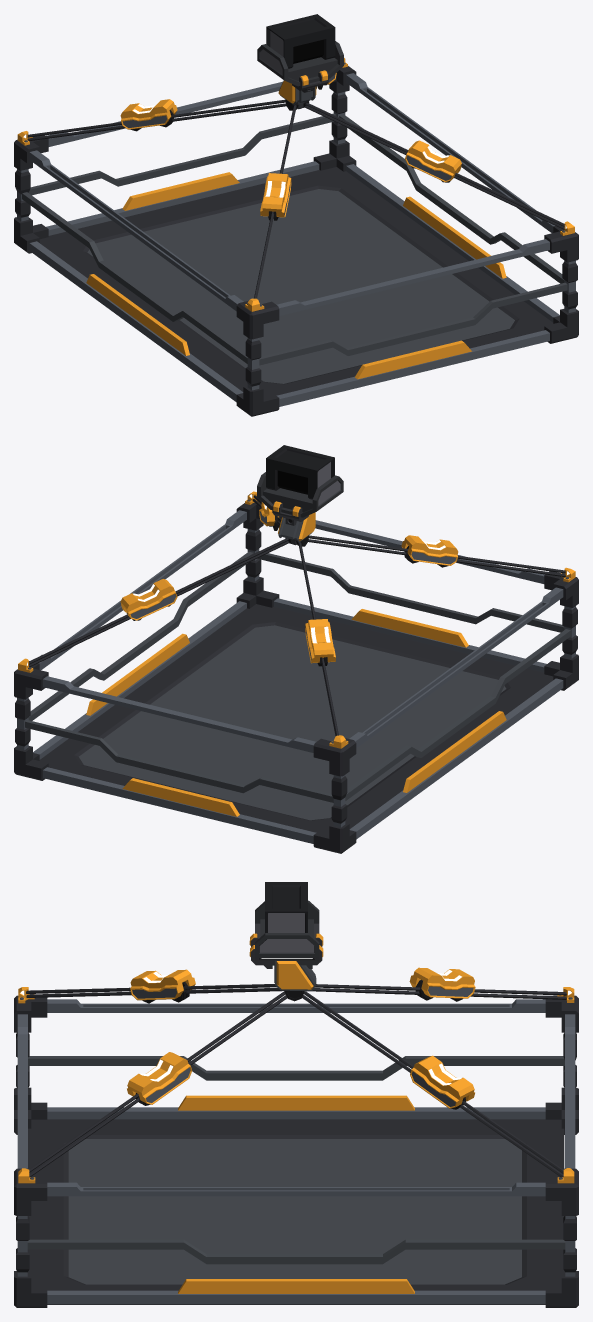
The model's file is SM_Transportation_platform_for_the_conveyor.glb.
3 views of the same model, one above another, from view 1: azimuth 30°, elevation 25°; view 2: azimuth 150°, elevation 25°; view 3: azimuth 270°, elevation 25° (orthographic). The views are drawn at different scales.
Parts seen in each view (by area): view 1: SM_Transportation_platform_for_the_conveyor; view 2: SM_Transportation_platform_for_the_conveyor; view 3: SM_Transportation_platform_for_the_conveyor.
Boxes of the visible parts, box(x1,y1,x2,y2) form: SM_Transportation_platform_for_the_conveyor: box(14, 14, 578, 416); SM_Transportation_platform_for_the_conveyor: box(14, 445, 578, 853); SM_Transportation_platform_for_the_conveyor: box(14, 882, 578, 1307).
Size of the model in its own units: 1.11 by 0.8584 by 1.39.
2 materials, 1 textured.
